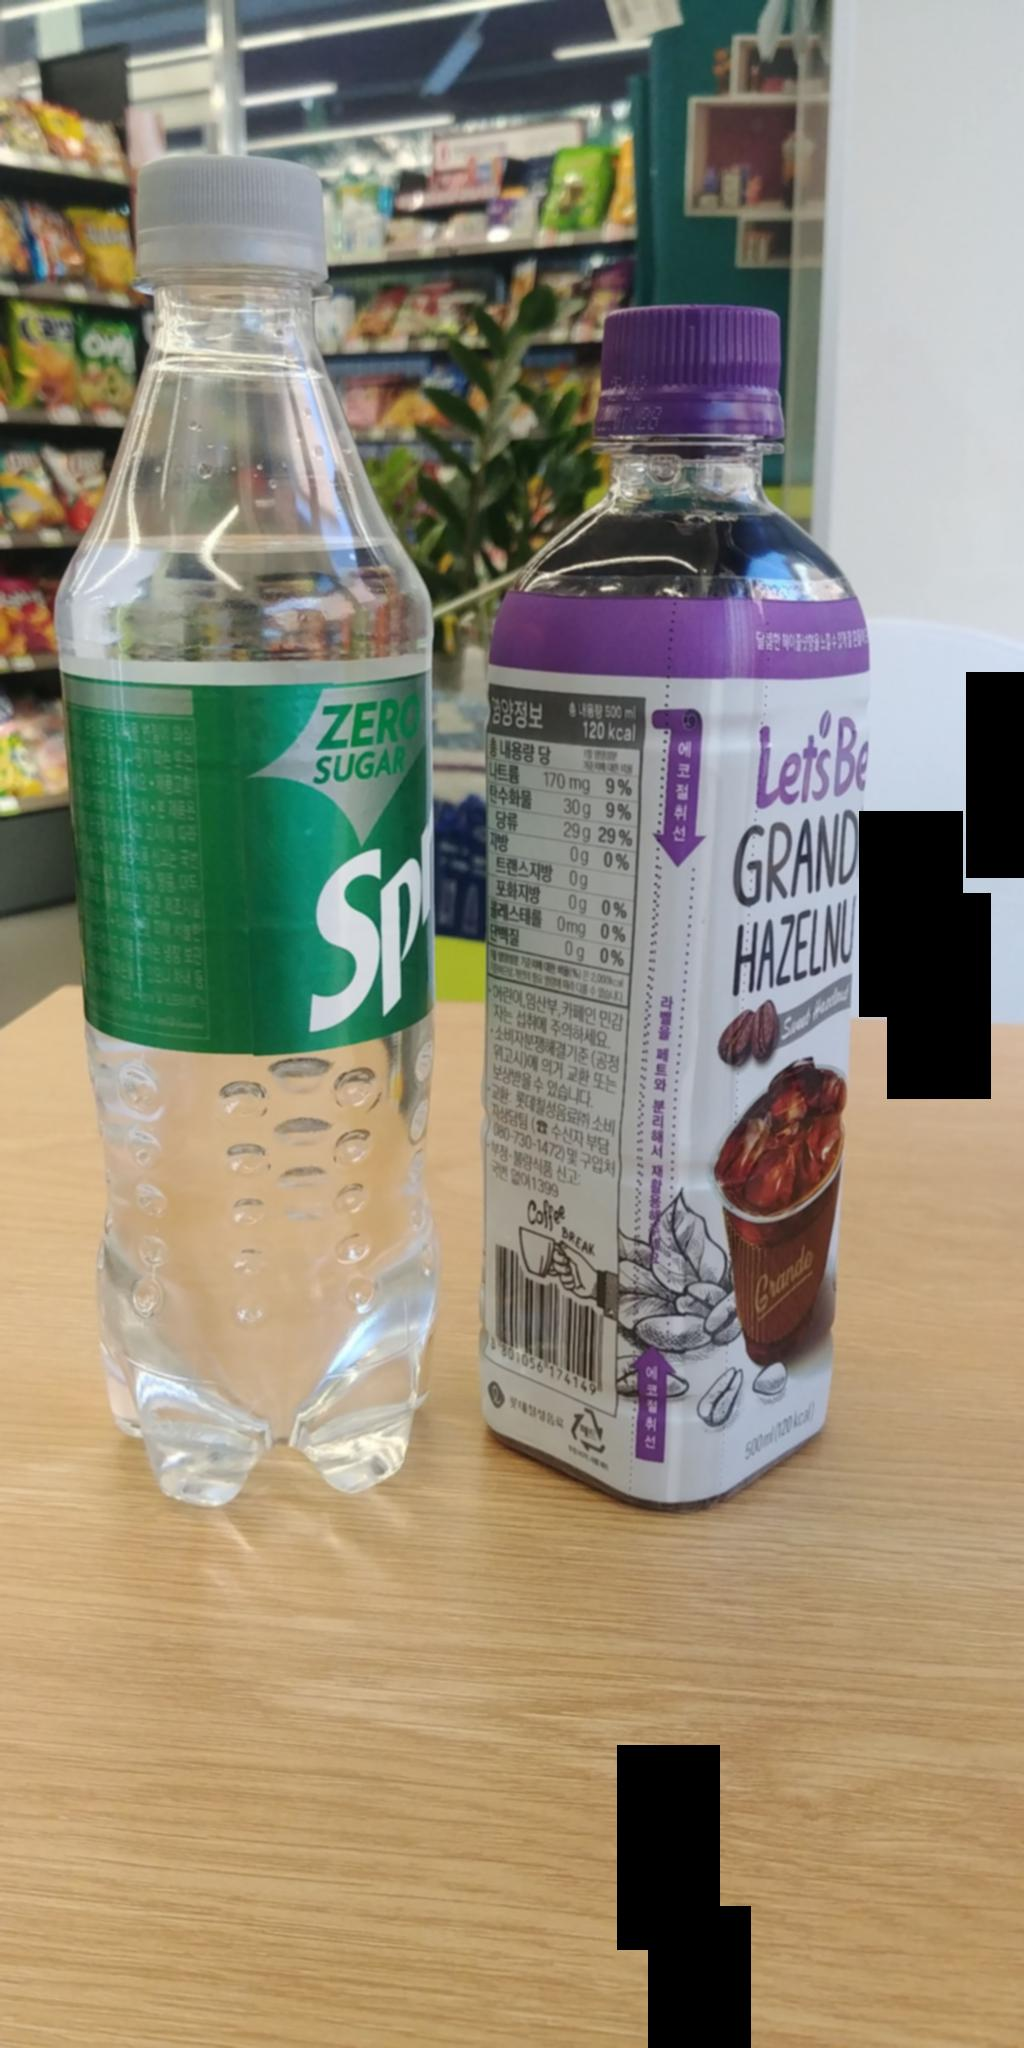letsbe_grande_hazelnut: (449, 281, 895, 1511)
sprite_zero: (31, 128, 448, 1520)
